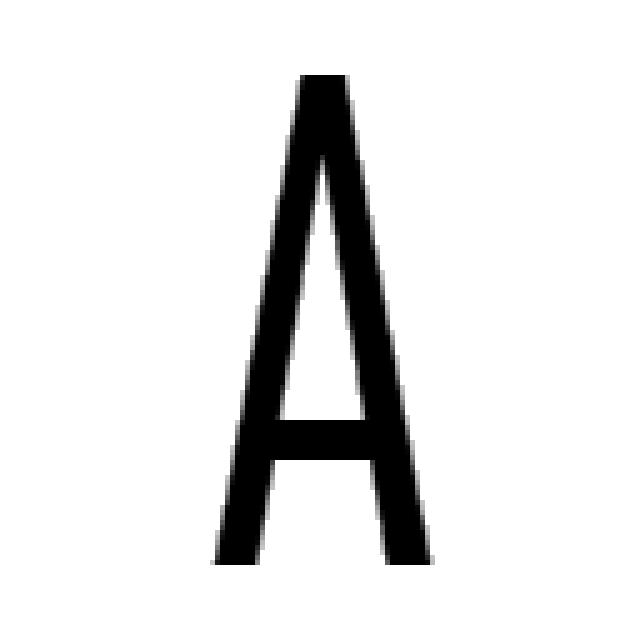A: (200, 65, 440, 570)
